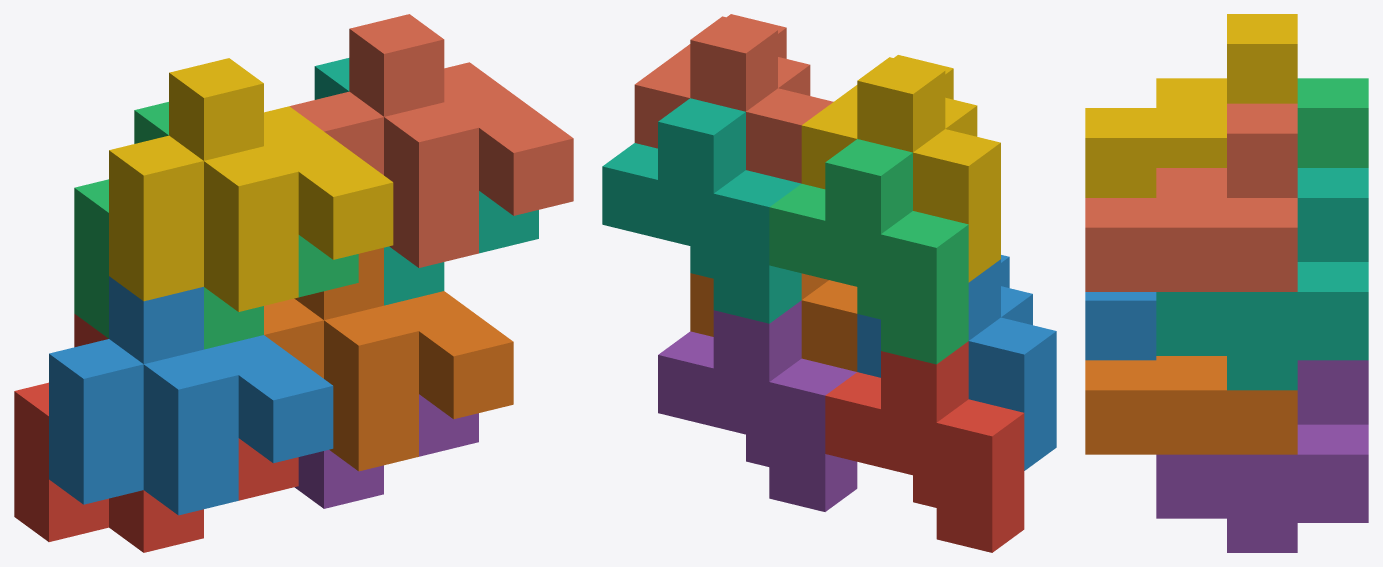
Rendered from tiling.obj.
The picture shows the model from 3 angles, left to right: view 1: azimuth 30°, elevation 25°; view 2: azimuth 150°, elevation 25°; view 3: azimuth 270°, elevation 25°; orthographic projection. The views are drawn at different scales.
Parts seen in each view (by area): view 1: copy_1_domain_4, copy_1_domain_2, copy_1_domain_8, copy_1_domain_6, copy_1_domain_1, copy_1_domain_3, copy_1_domain_7, copy_1_domain_5; view 2: copy_1_domain_3, copy_1_domain_1, copy_1_domain_7, copy_1_domain_5, copy_1_domain_4, copy_1_domain_8, copy_1_domain_2, copy_1_domain_6; view 3: copy_1_domain_8, copy_1_domain_7, copy_1_domain_5, copy_1_domain_4, copy_1_domain_6, copy_1_domain_3, copy_1_domain_2.
Part boxes in pixels (x1,y1,x2,y2): copy_1_domain_4: (109,58,393,311); copy_1_domain_2: (49,276,333,515); copy_1_domain_8: (289,14,573,267); copy_1_domain_6: (264,247,513,471); copy_1_domain_1: (14,314,298,552); copy_1_domain_3: (74,102,358,349); copy_1_domain_7: (314,58,538,305); copy_1_domain_5: (294,394,478,508); copy_1_domain_3: (769,139,968,364); copy_1_domain_1: (825,341,1024,552); copy_1_domain_7: (602,98,801,323); copy_1_domain_5: (658,300,857,511); copy_1_domain_4: (801,55,1000,282); copy_1_domain_8: (634,14,833,183); copy_1_domain_2: (857,255,1056,470); copy_1_domain_6: (690,273,857,371); copy_1_domain_8: (1085,103,1297,291); copy_1_domain_7: (1156,168,1368,390); copy_1_domain_5: (1156,360,1368,552); copy_1_domain_4: (1085,14,1297,197); copy_1_domain_6: (1085,356,1297,454); copy_1_domain_3: (1297,78,1368,167); copy_1_domain_2: (1085,292,1156,360).
Size of the model in its own units: 7 by 7 by 4.
